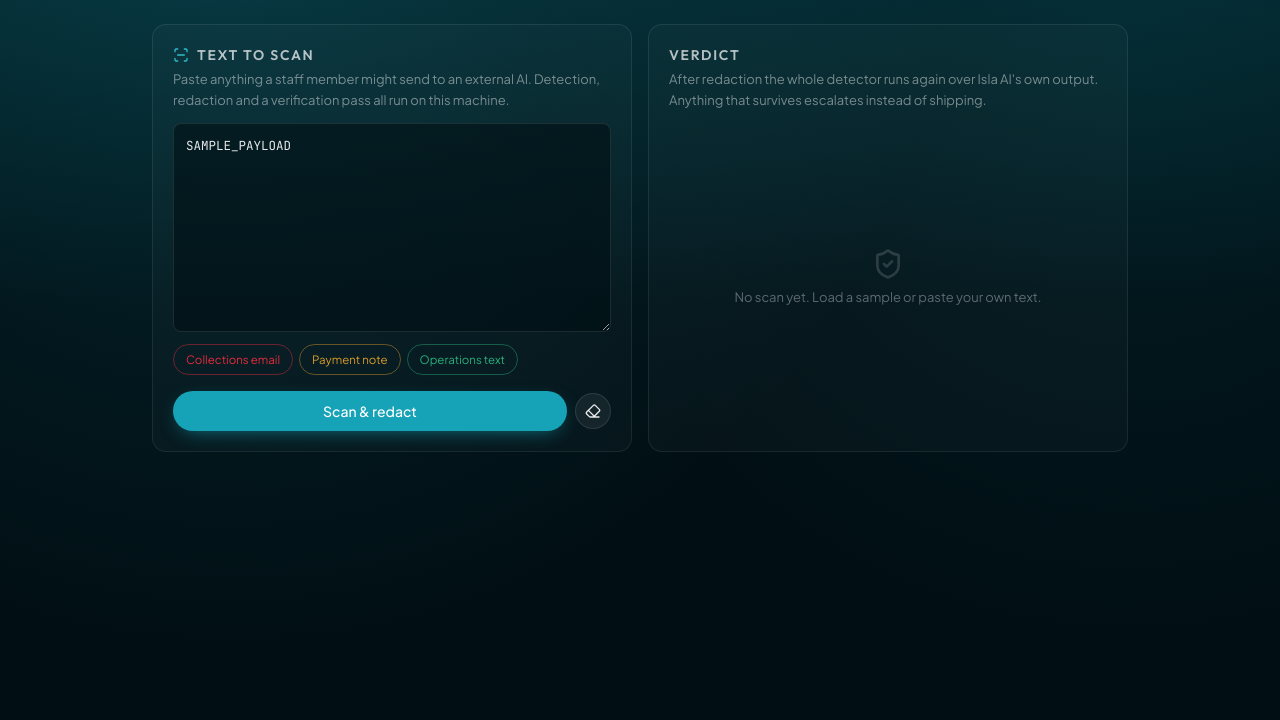
EgressGuard › runs a scan and shows both the original and the redacted text
Replace the text in the text box named "Text to scan for personal information" with "Contact Maria at 0917 123 4567" at coordinates (392, 228), box [173,123,611,332]
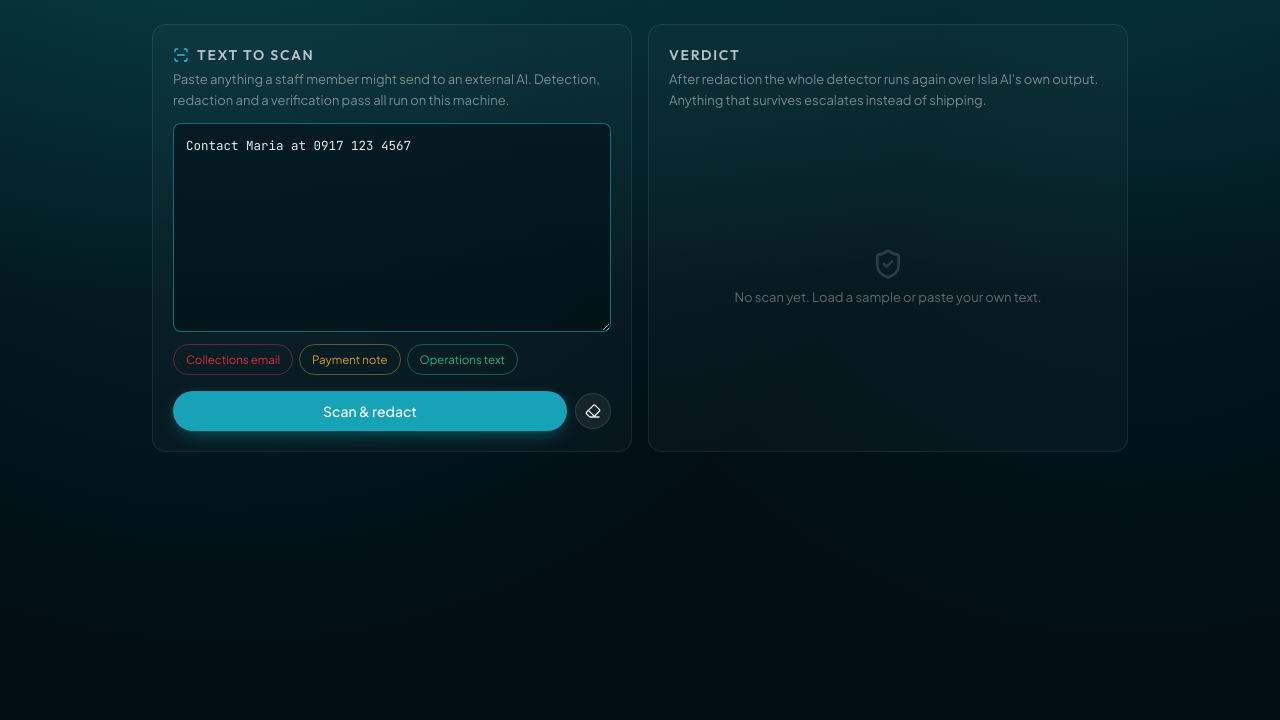
Click the button "Scan & redact".
click(370, 411)  # box [173,391,567,431]
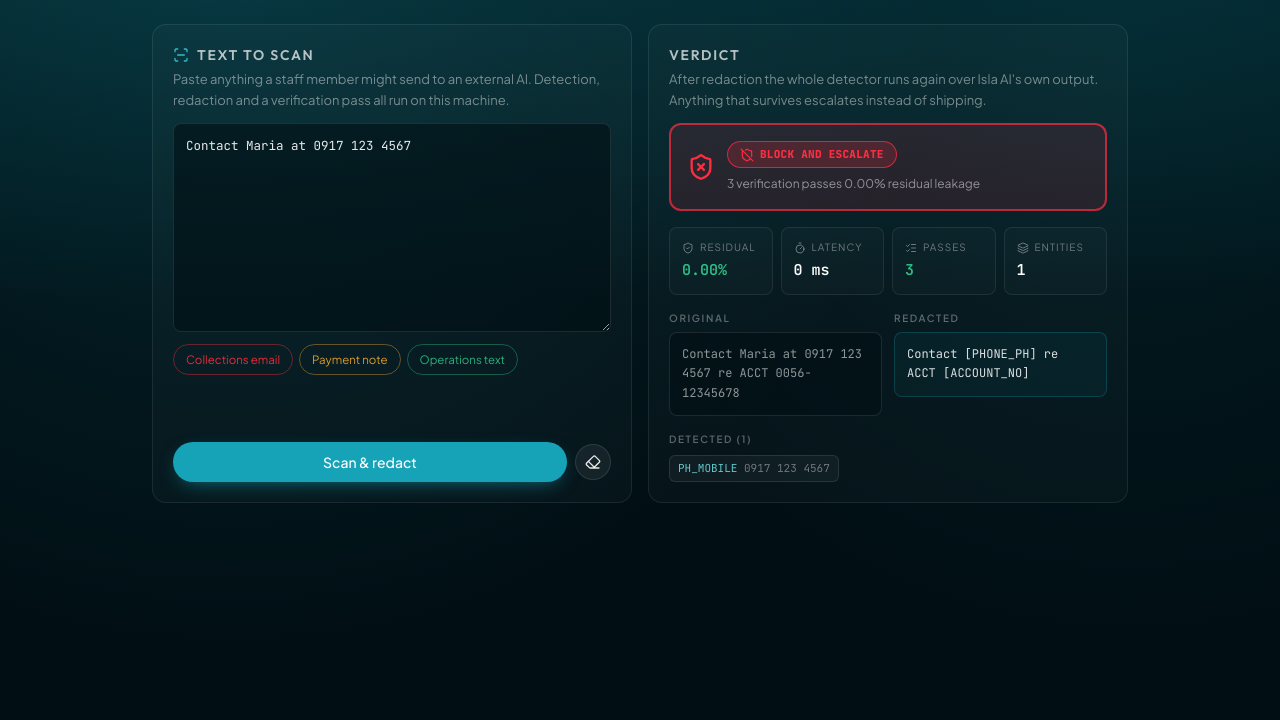
Now the text "Contact Maria at 0917 123 4567 re ACCT 0056-12345678" is shown, box [669,332,882,416]
Now the text with test id "pane-original" shows "0917 123 4567", box [682,346,869,401]
Now the text with test id "pane-redacted" shows "[PHONE_PH]", box [907,346,1065,381]
